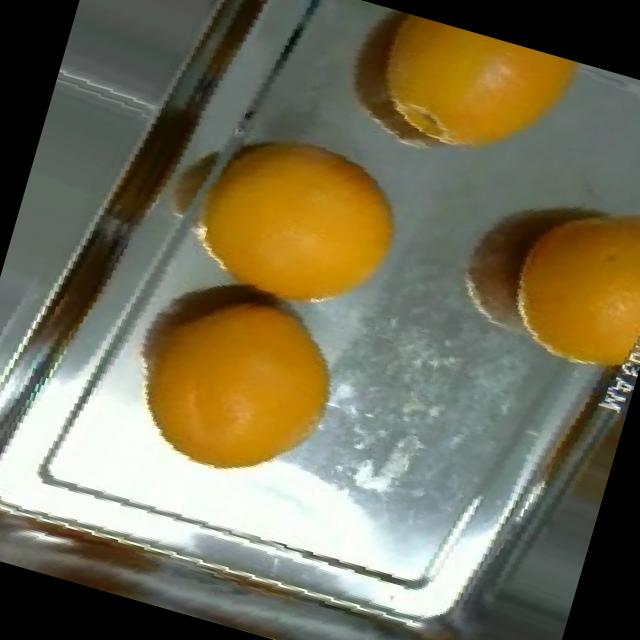Fruit: (473, 172, 640, 396)
